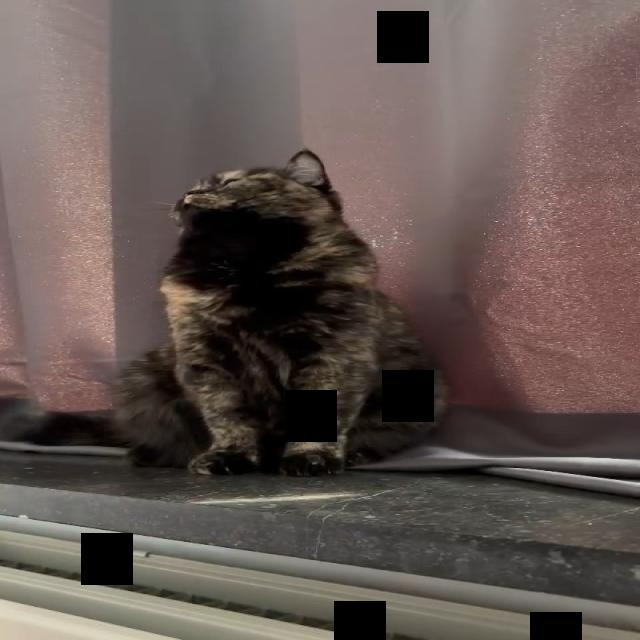authorized: (107, 148, 449, 477)
